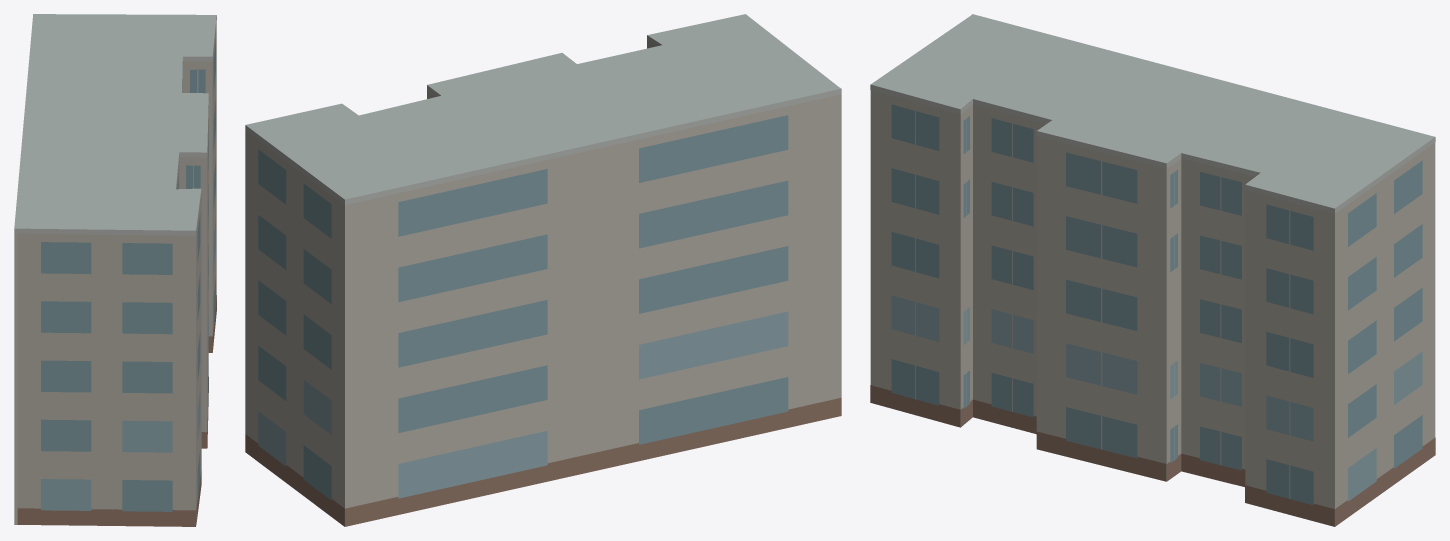
File: survey-upis-32723839.glb
3 views of the same model, side by side, from view 1: azimuth 30°, elevation 25°; view 2: azimuth 150°, elevation 25°; view 3: azimuth 270°, elevation 25° (orthographic). The views are drawn at different scales.
Parts seen in each view (by area): view 1: survey-upis-32723839.tmp; view 2: survey-upis-32723839.tmp; view 3: survey-upis-32723839.tmp.
Part boxes in pixels (bbox=[...]): survey-upis-32723839.tmp: bbox=[14, 14, 216, 526]; survey-upis-32723839.tmp: bbox=[245, 14, 841, 526]; survey-upis-32723839.tmp: bbox=[870, 14, 1435, 526].
Bounding box in the file's own units: 18.89 × 14.4 × 23.17.
